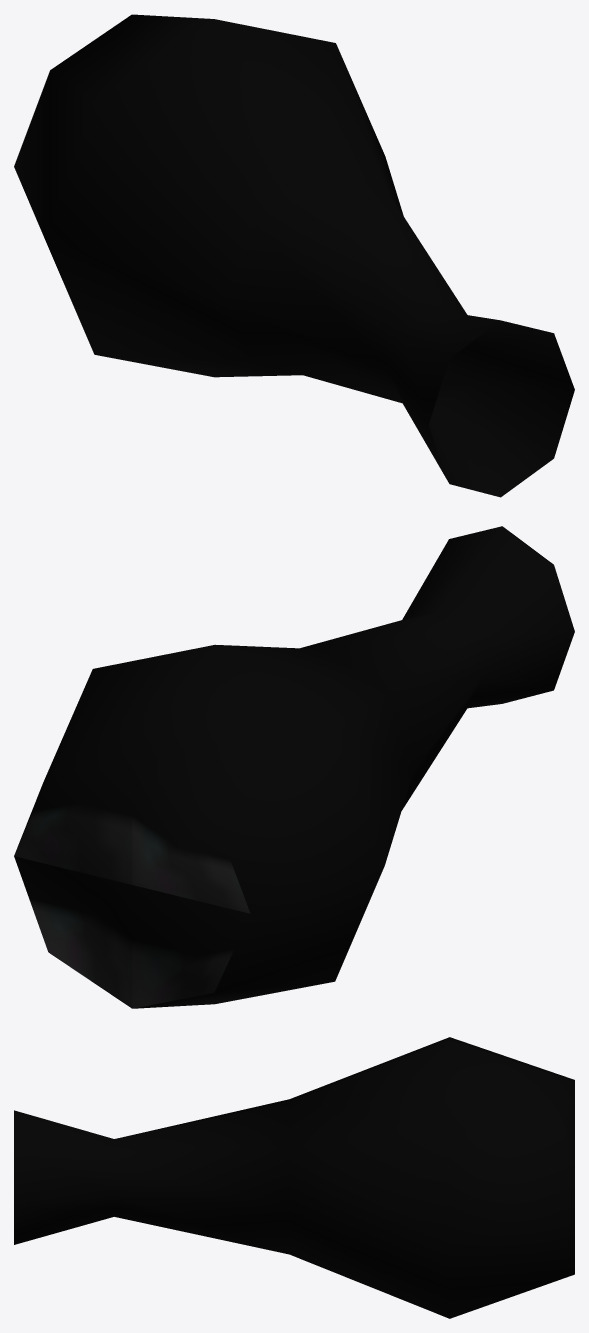
3 renders of one model, top to bottom at view 1: azimuth 30°, elevation 25°; view 2: azimuth 150°, elevation 25°; view 3: azimuth 270°, elevation 25°, orthographic. The views are drawn at different scales.
Visible parts, largest first — view 1: T1L3M004_26; view 2: T1L3M004_26; view 3: T1L3M004_26.
Boxes of the visible parts, x1,y1,x2,y2 form: T1L3M004_26: (14,14,574,497); T1L3M004_26: (14,526,574,1008); T1L3M004_26: (14,1037,574,1318).
Bounding box in the file's own units: 0.1748 × 0.1758 × 0.3281.
